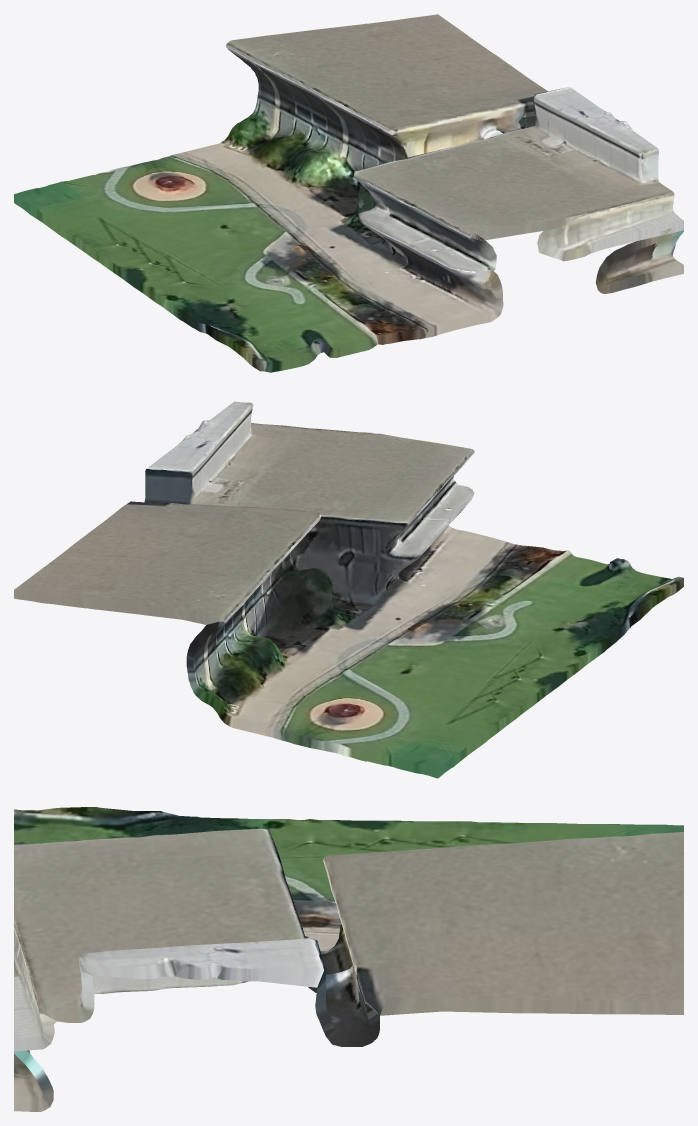
Rendered from z20-167736-405194-h0-yup-uvflip-v3-world.glb.
The picture shows the model from 3 angles, top to bottom: view 1: azimuth 30°, elevation 25°; view 2: azimuth 150°, elevation 25°; view 3: azimuth 270°, elevation 25°; orthographic projection. The views are drawn at different scales.
Size of the model in its own units: 30.16 by 8 by 30.32.
1 material, 1 textured.
